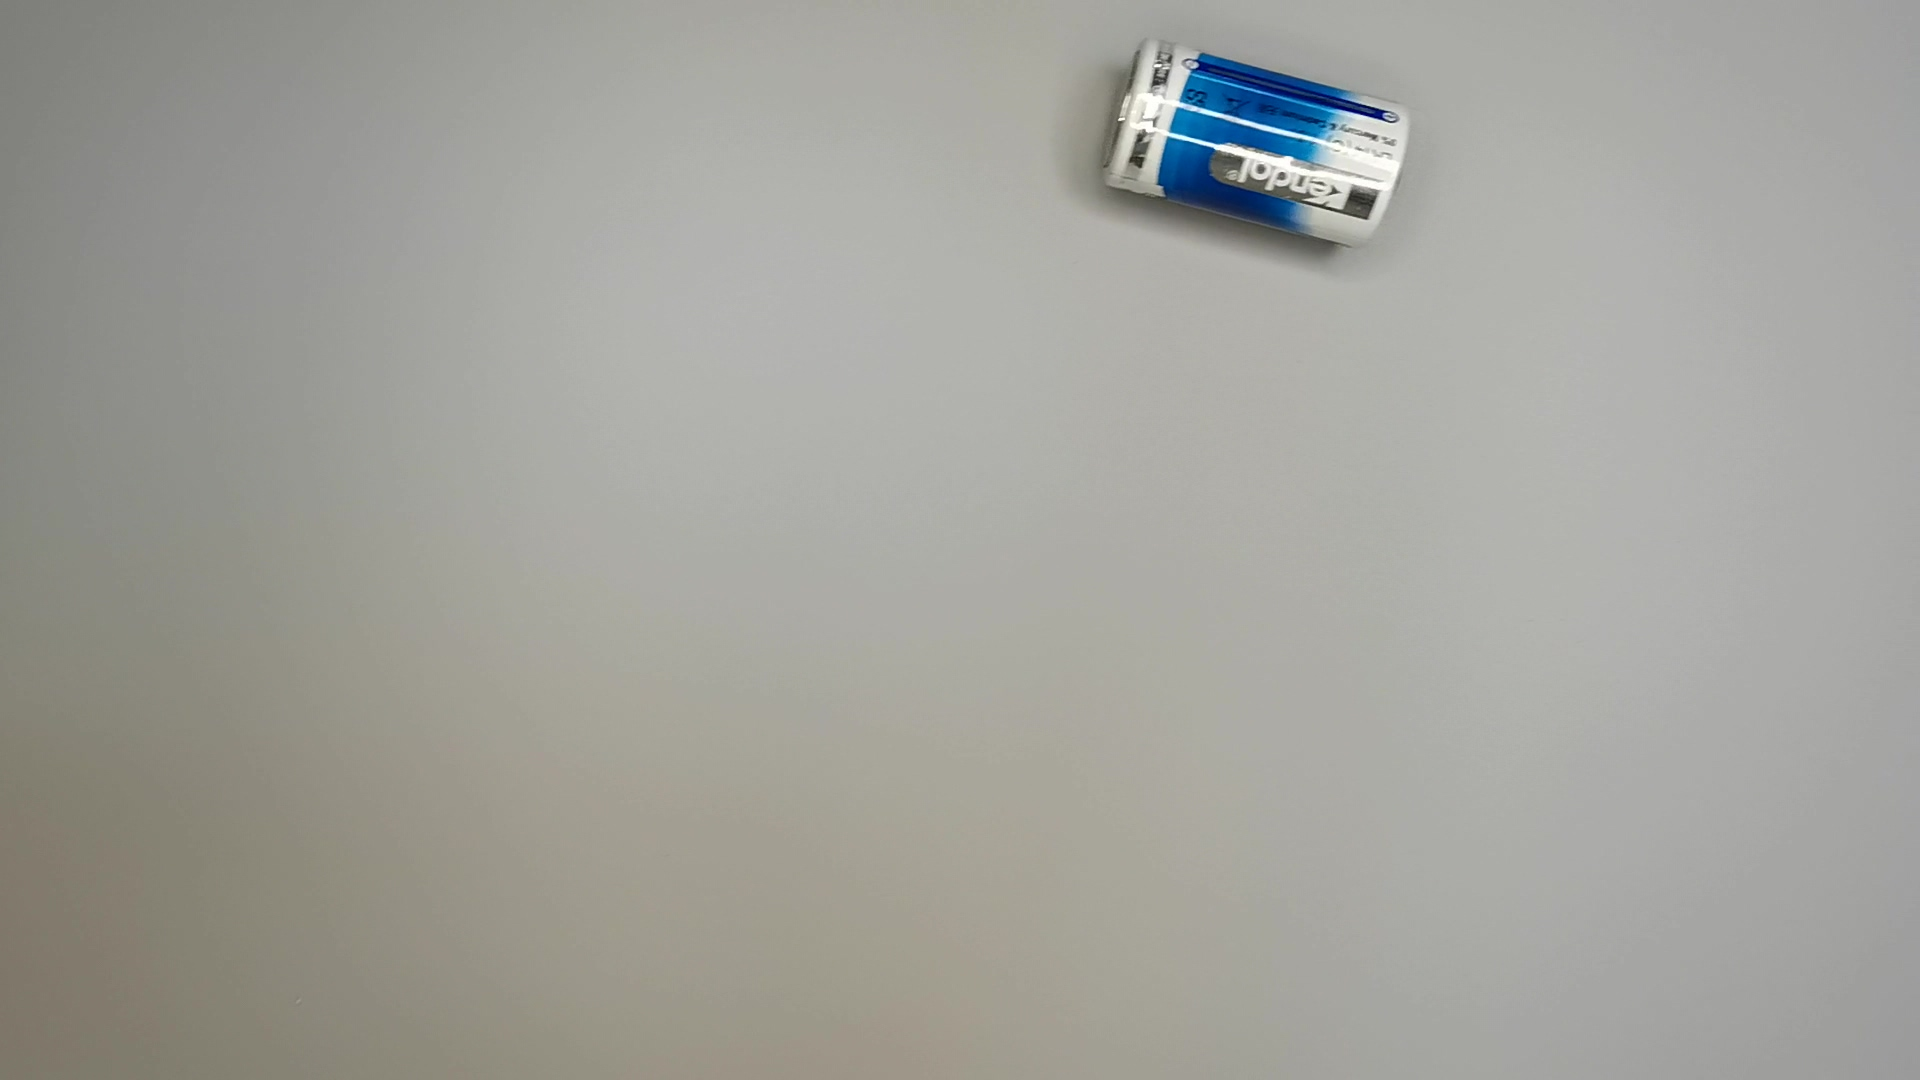battery: (1102, 30, 1414, 252)
